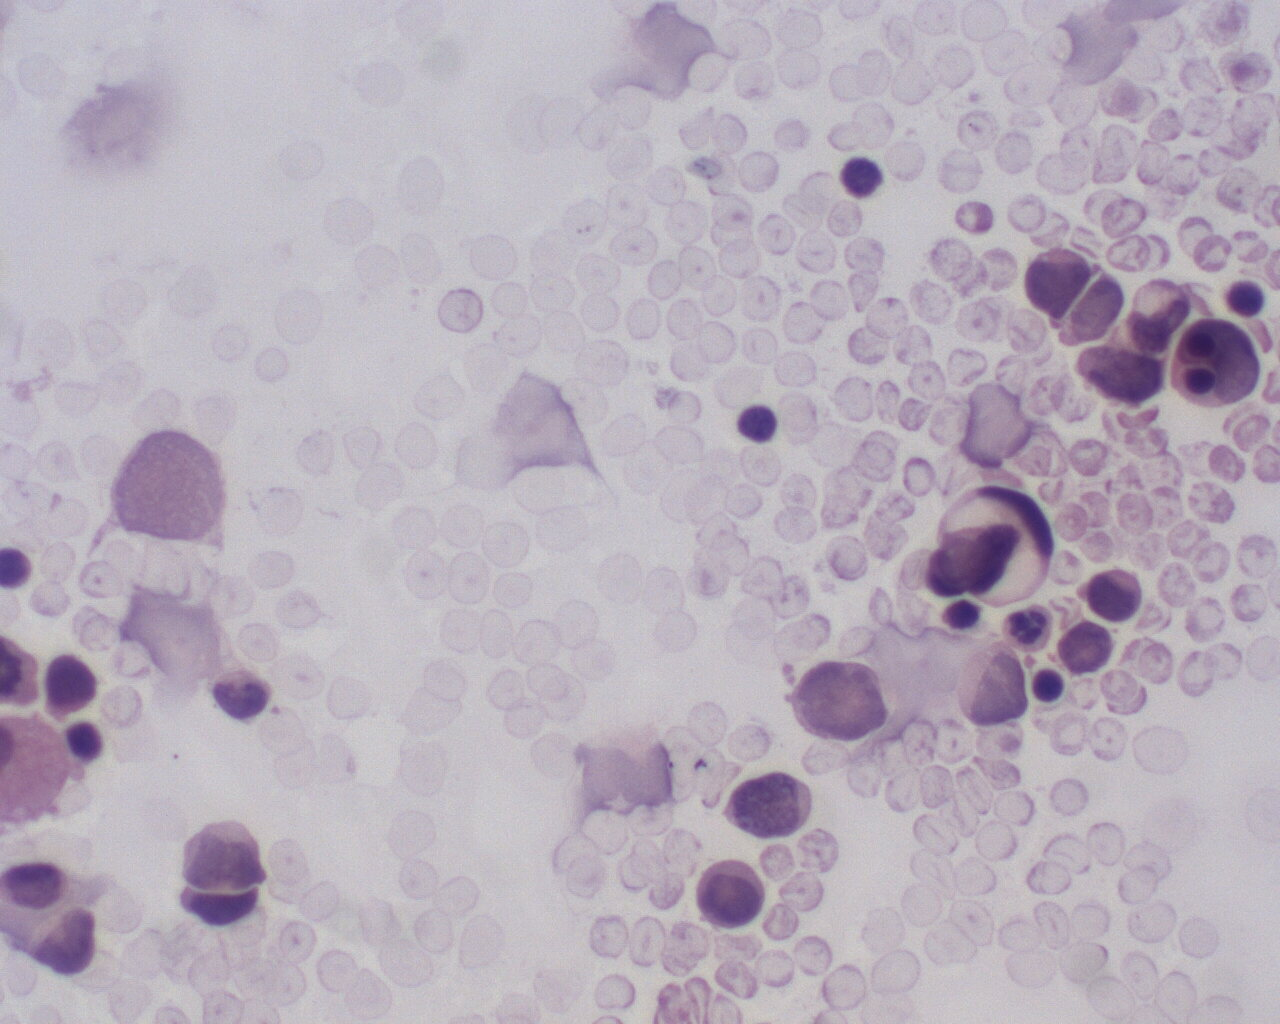ab: (714, 759, 823, 850), (1018, 236, 1095, 328), (695, 858, 767, 930)
histo: (926, 481, 1057, 608)
lymph: (737, 400, 779, 447), (1031, 664, 1069, 706)
